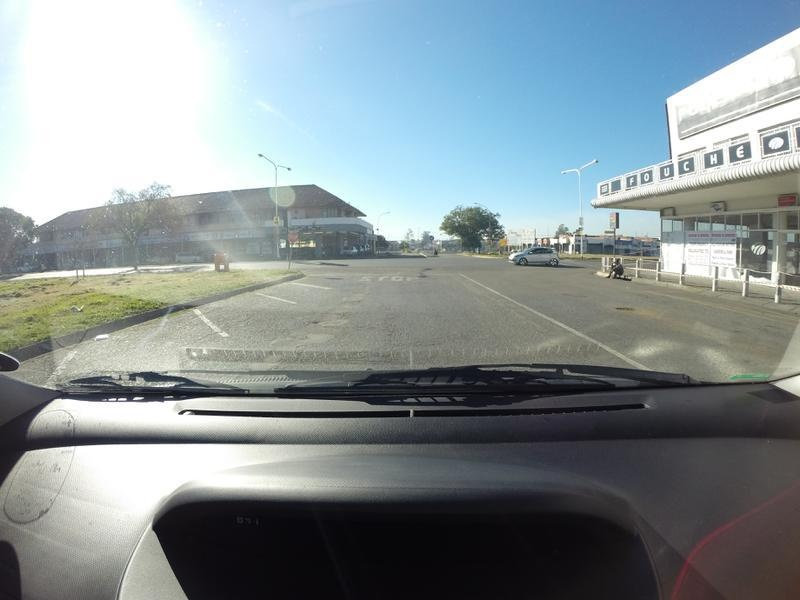pothole: (313, 314, 345, 327), (616, 302, 639, 309)
